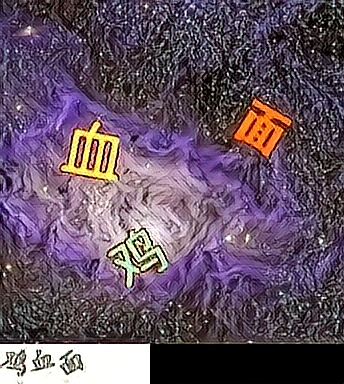BCA6: (104, 223, 169, 287)
C3E6: (229, 94, 294, 158)
D1AA: (57, 120, 122, 184)
